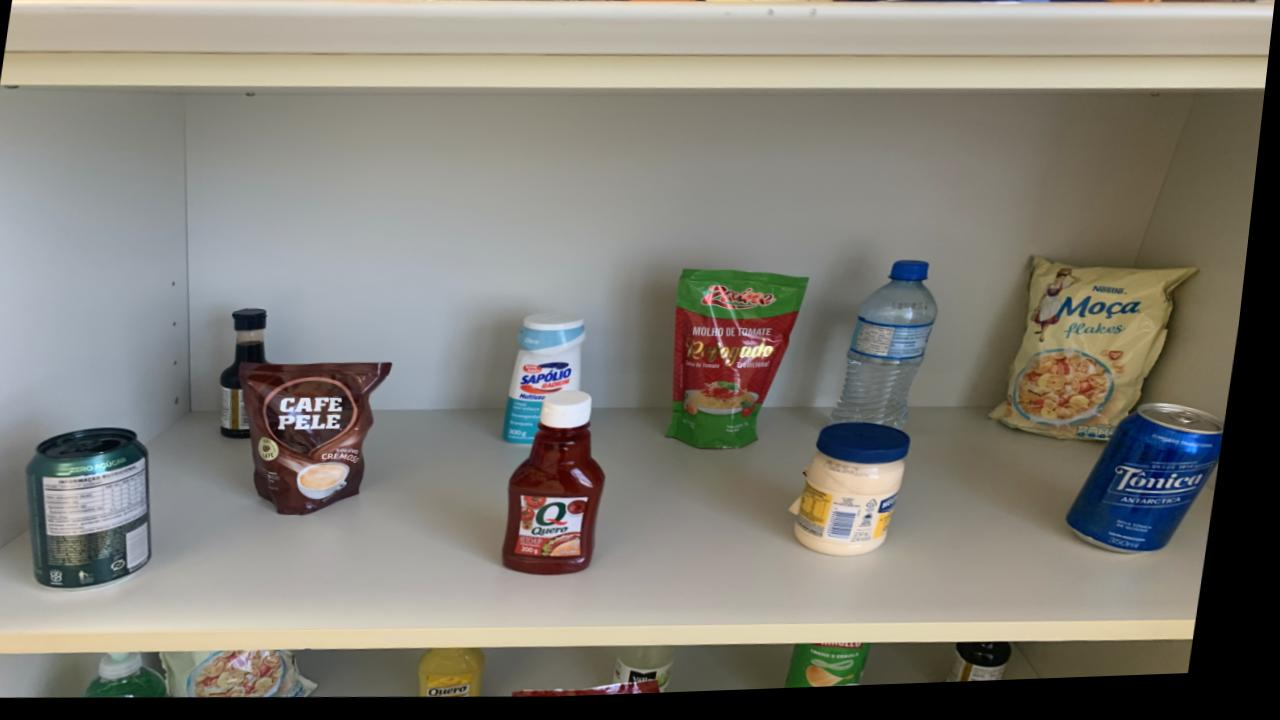Cleaner-Cleanup_Items: (514, 317, 594, 448)
Coffee-Pantry_Items: (247, 366, 398, 518)
Detergent-Cleanup_Items: (99, 654, 184, 699)
English_Sauce-Pantry_Items: (229, 311, 275, 441), (962, 650, 1028, 690)
Flakes-Snacks: (1000, 265, 1204, 449), (176, 652, 334, 700)
Guarana_Can-Drinks: (37, 429, 164, 590)
Ketchup-Pantry_Items: (515, 396, 617, 580)
Mayonnaise-Pantry_Items: (806, 429, 922, 563)
Mustard-Pantry_Items: (433, 652, 502, 701)
Pringles-Snacks: (802, 650, 887, 695)
Soda-Drinks: (628, 651, 693, 698)
Tomato_Sauce-Pantry_Items: (676, 274, 815, 455), (530, 685, 677, 702)
Tonic-Drinks: (1079, 412, 1235, 562)
Water_Bottle-Drinks: (840, 268, 946, 437)
